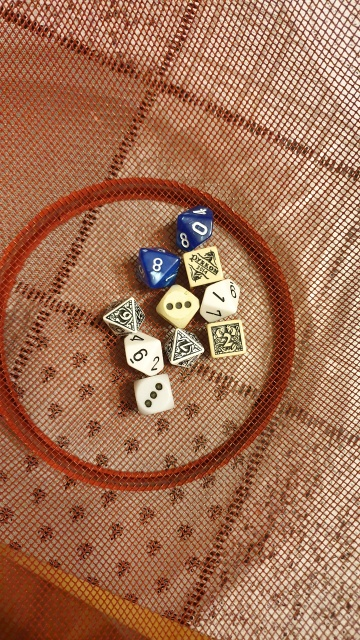d10-1: (194, 276, 244, 325)
d10-10: (171, 202, 215, 248)
d10-6: (114, 327, 167, 377)
d10-8: (135, 241, 183, 292)
d6-3: (154, 281, 201, 329), (130, 372, 179, 417)
d6p-1: (183, 244, 226, 288)
d6p-2: (206, 319, 250, 361)
d8p-6: (98, 293, 148, 338)
d8p-7: (163, 325, 205, 373)
